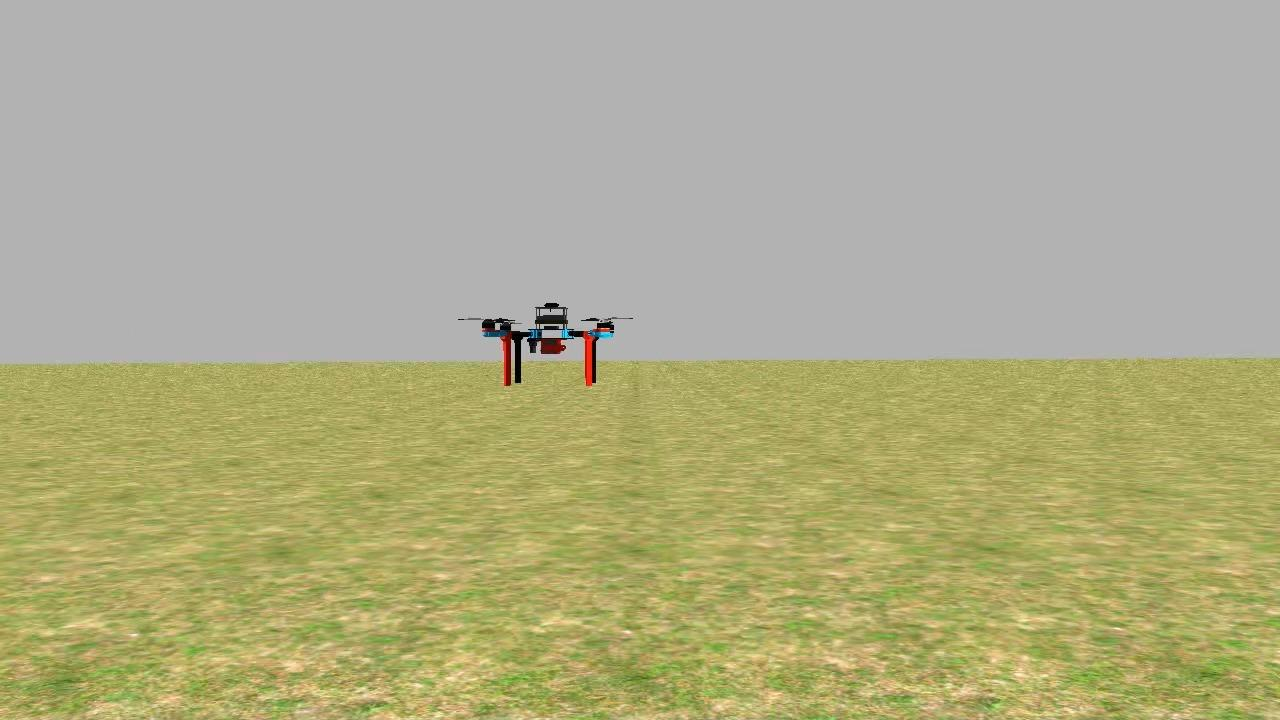UAV: (468, 298, 632, 395)
